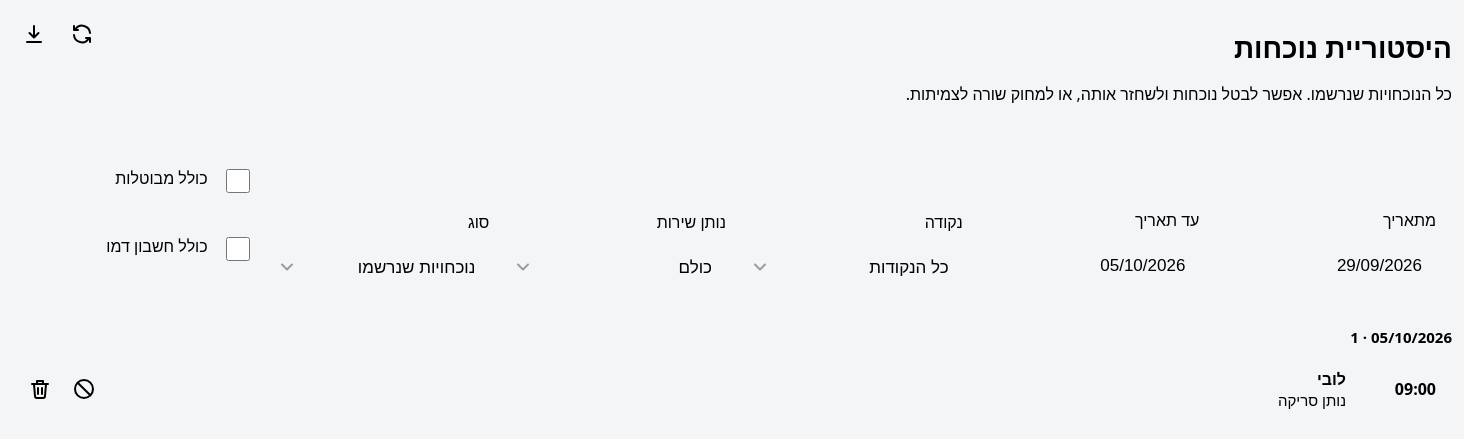
Test: a row of a visit that was not counted › names the point as "קוד לא מוכר" when the code named none, and by its name otherwise
The image size is (1464, 439).
Expected: the text "נותן סריקה" is shown, [1278,390,1346,410]
Select "לא נקלטו" in the dropdown labelled "סוג" at (377, 267), box [265,241,489,293]
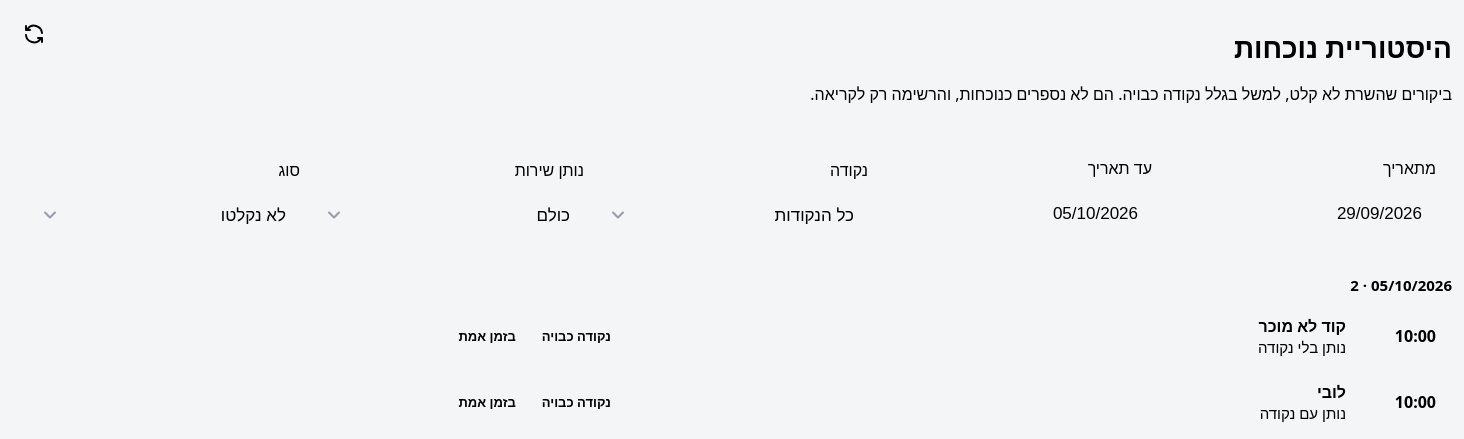
Expected: the text "לובי" is shown, [1317,381,1346,403]
Now the text "קוד לא מוכר" is shown once, box [1258,315,1346,337]
